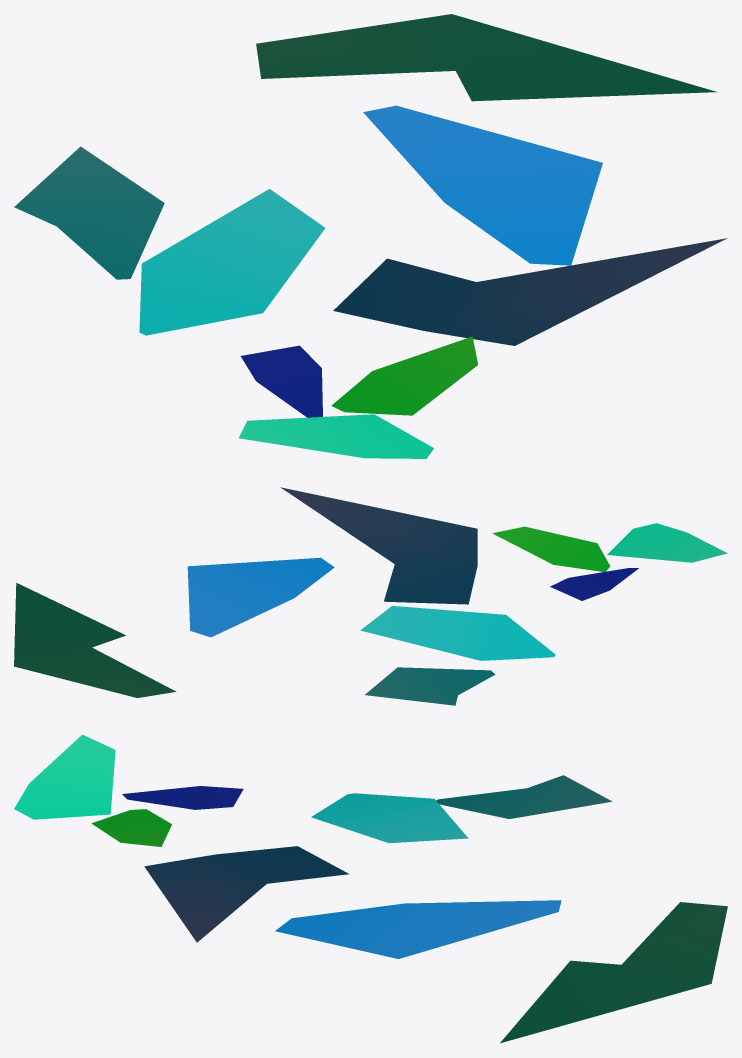
File: Creeping_Saltbush_thckfiqr_Mid_thckfiqr_VarF_LOD1.fbx
The picture shows the model from 3 angles, top to bottom: view 1: azimuth 30°, elevation 25°; view 2: azimuth 150°, elevation 25°; view 3: azimuth 270°, elevation 25°; orthographic projection. The views are drawn at different scales.
Parts seen in each view (by area): view 1: _ba5b_VarF_LOD2; view 2: _ba5b_VarF_LOD2; view 3: _ba5b_VarF_LOD2.
Boxes of the visible parts, x1=… form: _ba5b_VarF_LOD2: x1=14, y1=14, x2=727, y2=458; _ba5b_VarF_LOD2: x1=14, y1=487, x2=727, y2=705; _ba5b_VarF_LOD2: x1=14, y1=734, x2=727, y2=1043.
Bounding box in the file's own units: 29.5 × 1.85 × 31.12.
